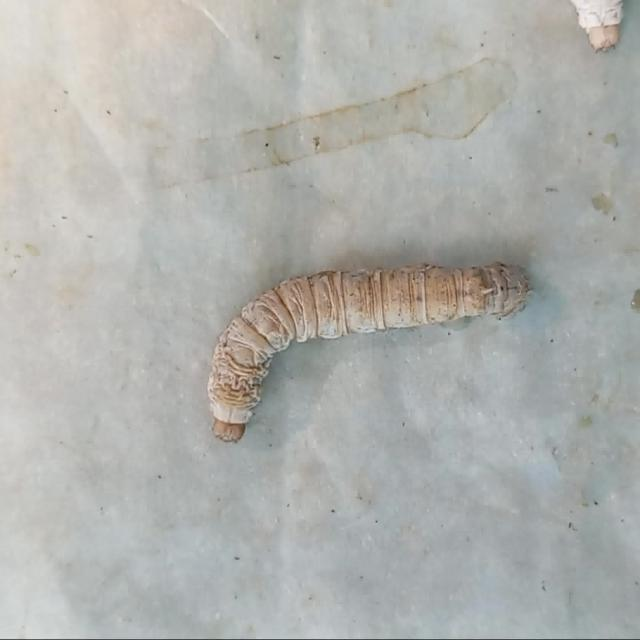Grasserie: (203, 250, 538, 449)
